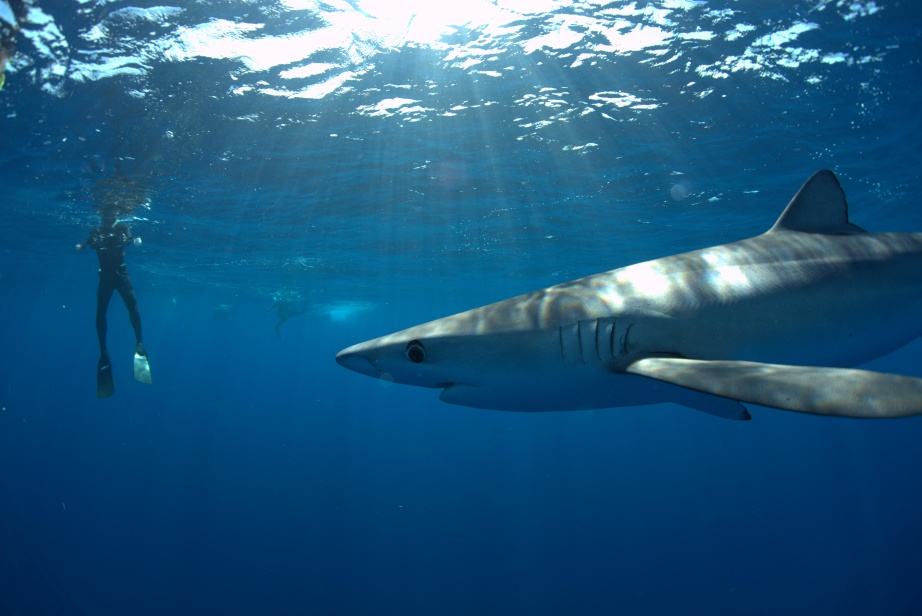Azul: (299, 130, 921, 458)
